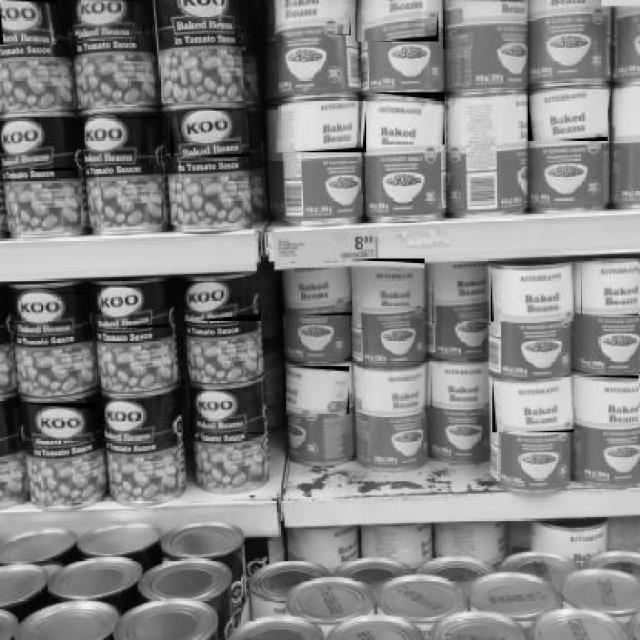Beans: (275, 100, 368, 154), (492, 377, 576, 434), (491, 271, 577, 323), (528, 89, 609, 142), (443, 0, 525, 51), (369, 92, 446, 146), (355, 360, 431, 414), (5, 117, 76, 172), (278, 267, 354, 318), (171, 111, 251, 158), (86, 117, 162, 166), (352, 258, 426, 308), (355, 0, 440, 43), (432, 266, 492, 326), (580, 258, 640, 317), (105, 395, 177, 443), (191, 391, 266, 435), (89, 288, 169, 329), (10, 292, 84, 336), (286, 367, 352, 415), (184, 282, 262, 322), (575, 376, 640, 424), (18, 403, 97, 442), (431, 360, 491, 409), (276, 0, 352, 37), (72, 0, 146, 37), (0, 0, 58, 46)
